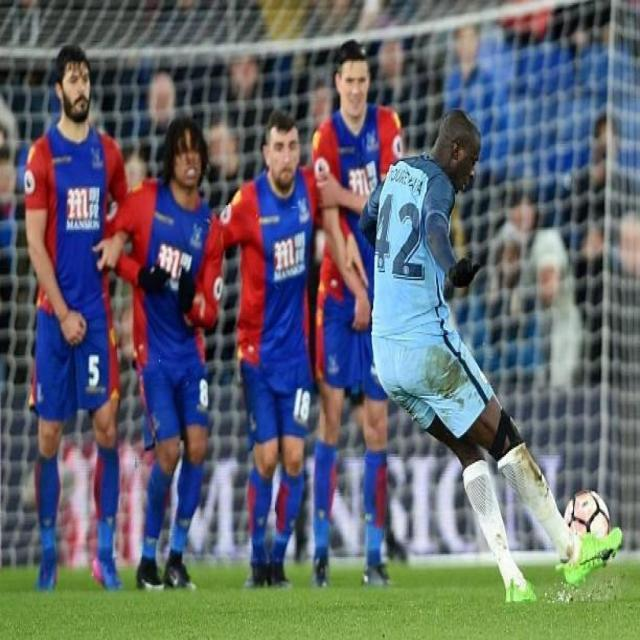ball: (559, 477, 614, 565)
player: (373, 99, 616, 630), (24, 46, 127, 592), (111, 113, 222, 597), (223, 114, 324, 592), (317, 35, 398, 592)
